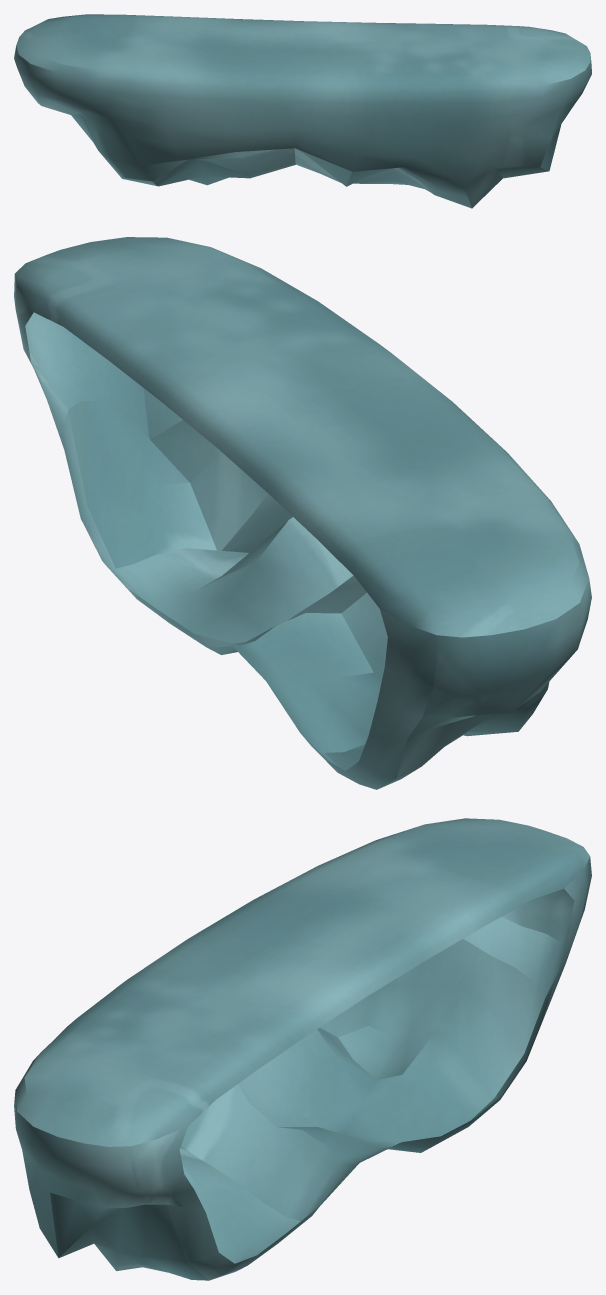
Rendered from Ice_platform_2.fbx.
3 views of the same model, one above another, from view 1: azimuth 30°, elevation 25°; view 2: azimuth 150°, elevation 25°; view 3: azimuth 270°, elevation 25° (orthographic). The views are drawn at different scales.
Parts seen in each view (by area): view 1: Ice_Platform_2; view 2: Ice_Platform_2; view 3: Ice_Platform_2.
Part boxes in pixels (left/top/right/bottom): Ice_Platform_2: left=14, top=14, right=591, bottom=208; Ice_Platform_2: left=14, top=237, right=591, bottom=789; Ice_Platform_2: left=14, top=818, right=591, bottom=1280.
Size of the model in its own units: 847 by 287 by 638.
